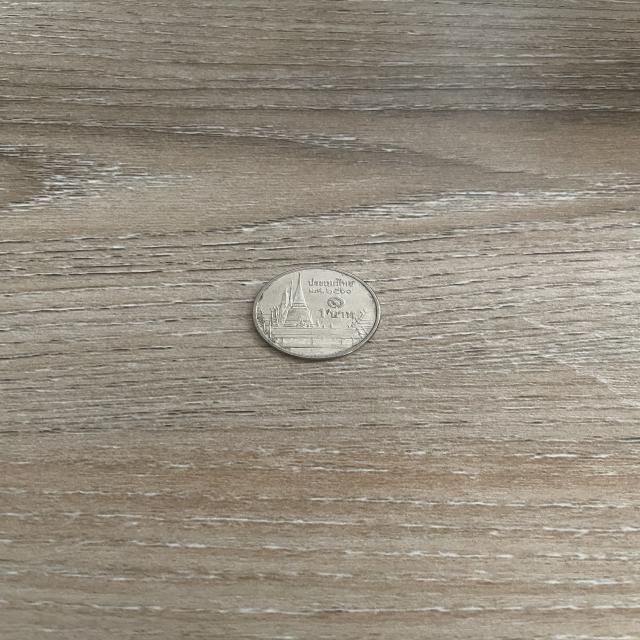1 Bath: (245, 260, 390, 367)
